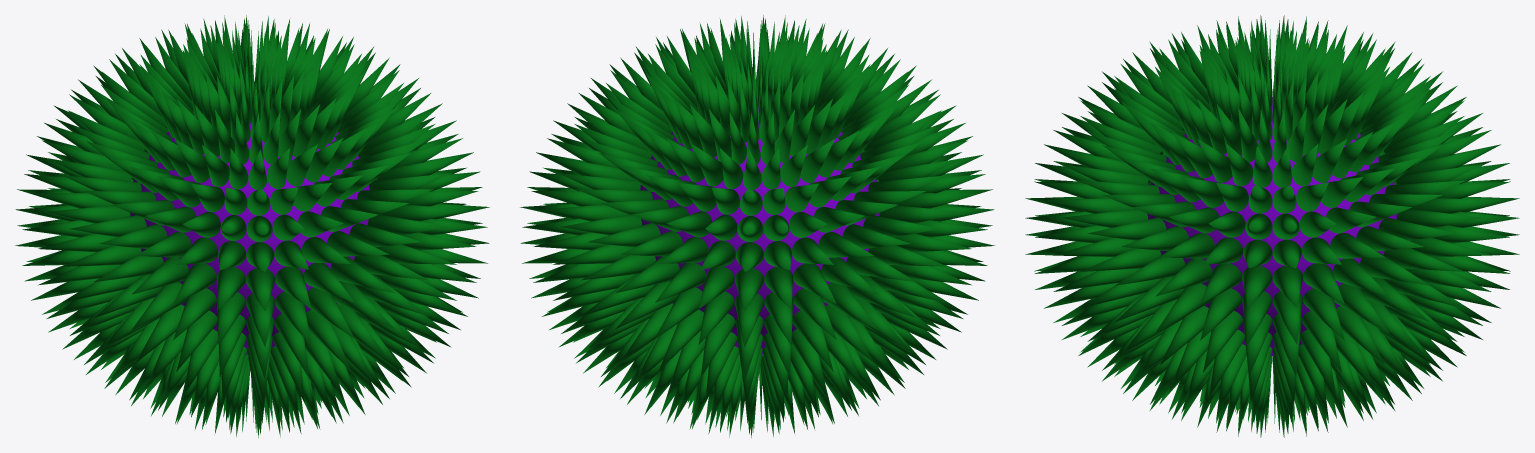
Rendered from VirusModel.fbx.
The picture shows the model from 3 angles, left to right: view 1: azimuth 30°, elevation 25°; view 2: azimuth 150°, elevation 25°; view 3: azimuth 270°, elevation 25°; orthographic projection.
Parts seen in each view (by area): view 1: Tessellation, Sphere; view 2: Tessellation, Sphere; view 3: Tessellation, Sphere.
Part boxes in pixels (x1=…): Tessellation: x1=15, y1=15, x2=489, y2=437; Sphere: x1=130, y1=106, x2=369, y2=354; Tessellation: x1=520, y1=15, x2=994, y2=437; Sphere: x1=640, y1=107, x2=879, y2=354; Tessellation: x1=1025, y1=15, x2=1519, y2=437; Sphere: x1=1147, y1=97, x2=1397, y2=355.
Bounding box in the file's own units: 365 × 315 × 383.
